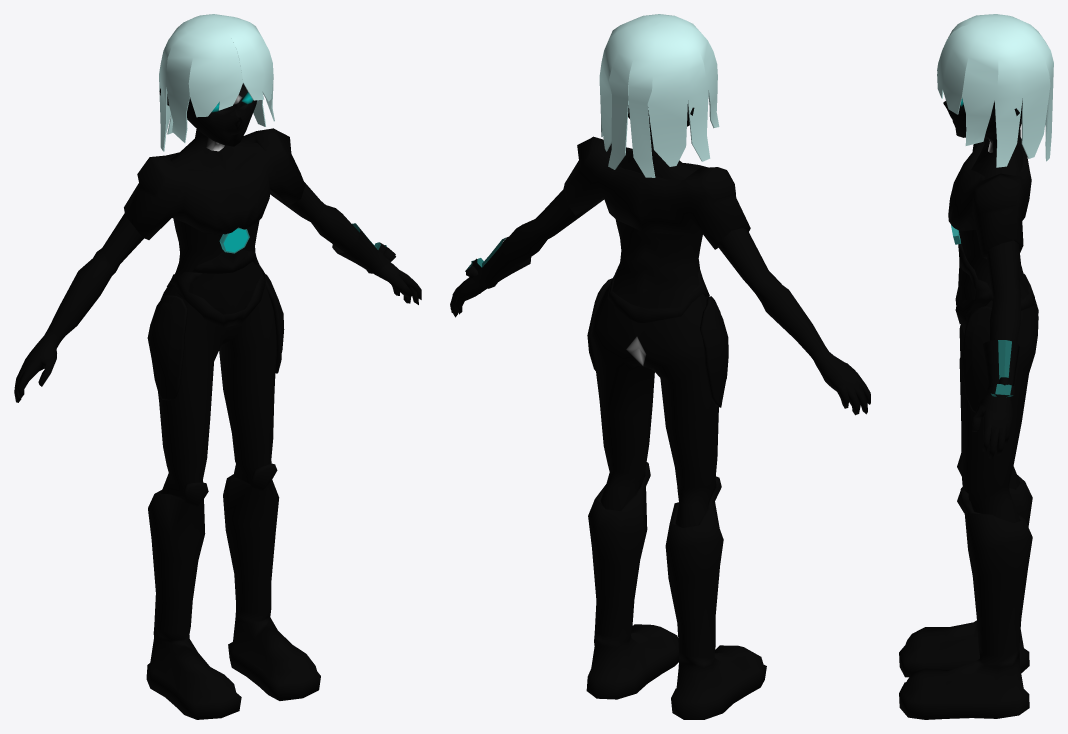
File: AIKO BETTERTHANEVER.fbx
3 views of the same model, side by side, from view 1: azimuth 30°, elevation 25°; view 2: azimuth 150°, elevation 25°; view 3: azimuth 270°, elevation 25° (orthographic). The views are drawn at different scales.
Parts seen in each view (by area): view 1: Aiko; view 2: Aiko; view 3: Aiko.
Part boxes in pixels (left/top/right/bottom): Aiko: left=14, top=14, right=421, bottom=719; Aiko: left=450, top=14, right=870, bottom=719; Aiko: left=899, top=14, right=1053, bottom=719.
Size of the model in its own units: 107 by 166 by 34.9.
